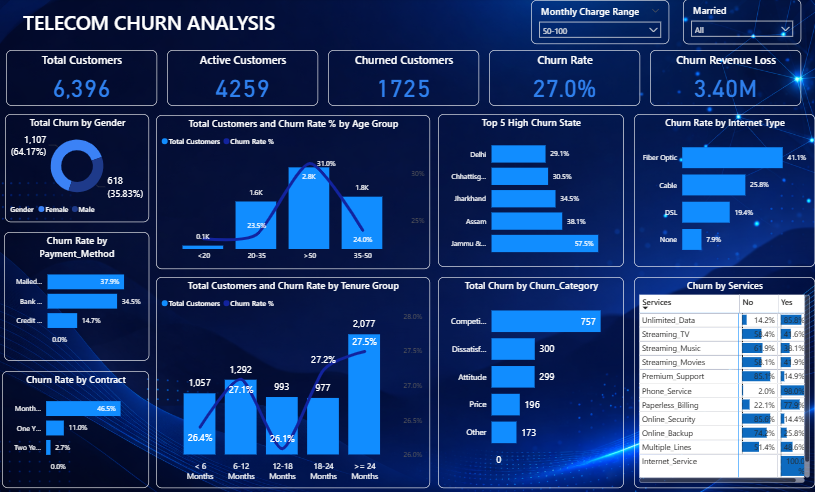

What the dashboard file says about the page in this screenshot:
{"tool":"powerbi","page":{"name":"Churn","canvas":[1400,850],"ordinal":0},"visuals":[{"type":"card","title":"Total Customers","fields":{"Values":["tbl_dummy.Total Customers"]},"box":[13.6,88.4,256.7,95.2],"z":0},{"type":"clusteredBarChart","title":"Churn Rate by Payment_Method","fields":{"Category":["PROD_churn.Payment_Method"],"Y":["tbl_dummy.Churn Rate %"]},"box":[10.2,397.8,246.5,219.3],"z":1000},{"type":"barChart","title":"Churn Rate by Contract","fields":{"Category":["PROD_churn.Contract"],"Y":["tbl_dummy.Churn Rate %"]},"box":[6.8,634.1,249.9,198.9],"z":2000},{"type":"lineClusteredColumnComboChart","title":"Total Customers and Churn Rate by Tenure Group","fields":{"Category":["Mapping_tenureGRp.Tenure Group"],"Y":["tbl_dummy.Total Customers"],"Y2":["tbl_dummy.Churn Rate %"]},"box":[268.6,474.3,465.8,358.7],"z":3000},{"type":"clusteredBarChart","title":"Top 5 High Churn State","fields":{"Category":["PROD_churn.State"],"Y":["tbl_dummy.Churn Rate %"]},"box":[748,198.9,316.2,258.4],"z":4000},{"type":"clusteredBarChart","fields":{"Category":["PROD_churn.Churn_Category"],"Y":["tbl_dummy.Total Churn"]},"box":[748,482.8,316.2,350.2],"z":5000},{"type":"clusteredBarChart","title":"Churn Rate by Internet Type","fields":{"Category":["PROD_churn.Internet_Type"],"Y":["tbl_dummy.Churn Rate %"]},"box":[1081.2,195.5,307.7,261.8],"z":6000},{"type":"pivotTable","title":"Churn by Services","fields":{"Rows":["Prod_services.Services"],"Columns":["Prod_services.Status"],"Values":["Sum(Prod_services.Churn Status)"]},"box":[1081.2,474.3,307.7,358.7],"z":7000},{"type":"slicer","fields":{"Values":["Prod_services.Monthly Charge Status"]},"box":[906.1,3.4,234.6,74.8],"z":8000},{"type":"slicer","fields":{"Values":["PROD_churn.Married"]},"box":[1164.5,1.7,200.6,76.5],"z":9000},{"type":"textbox","title":"TELECOM CHURN ANALYSIS","box":[44.2,17,452.2,44.2],"z":10000},{"type":"donutChart","fields":{"Category":["PROD_churn.Gender"],"Y":["tbl_dummy.Total Churn"]},"box":[11.9,197.2,244.8,183.6],"z":11000},{"type":"card","title":"Active Customers","fields":{"Values":["tbl_dummy.Active Customers"]},"box":[287.3,88.4,256.7,95.2],"z":12000},{"type":"card","title":"Churned Customers","fields":{"Values":["tbl_dummy.Churned Customers"]},"box":[561,88.4,256.7,95.2],"z":13000},{"type":"card","title":"Churn Rate","fields":{"Values":["tbl_dummy.Churn Rate %"]},"box":[834.7,88.4,256.7,95.2],"z":14000},{"type":"card","title":"Churn Revenue Loss","fields":{"Values":["tbl_dummy.Churn Revenue Loss"]},"box":[1108.4,88.4,256.7,95.2],"z":15000},{"type":"lineStackedColumnComboChart","fields":{"Category":["Mapping_AgeGrp.Age Group"],"Y":["tbl_dummy.Total Customers"],"Y2":["tbl_dummy.Churn Rate %"]},"box":[268.6,198.9,465.8,261.8],"z":15001}]}

Visuals, with their boxes in screenshot pixels (x1, y1, x2, y2), scaled from the page's 1400x850 canvas onto the 815x492 screenshot:
"Total Customers" card: <region>8, 51, 157, 106</region>
"Churn Rate by Payment_Method" clusteredBarChart: <region>6, 230, 149, 357</region>
"Churn Rate by Contract" barChart: <region>4, 367, 149, 482</region>
"Total Customers and Churn Rate by Tenure Group" lineClusteredColumnComboChart: <region>156, 275, 428, 482</region>
"Top 5 High Churn State" clusteredBarChart: <region>435, 115, 620, 265</region>
clusteredBarChart - PROD_churn.Churn_Category x tbl_dummy.Total Churn: <region>435, 279, 620, 482</region>
"Churn Rate by Internet Type" clusteredBarChart: <region>629, 113, 809, 265</region>
"Churn by Services" pivotTable: <region>629, 275, 809, 482</region>
slicer - Prod_services.Monthly Charge Status: <region>527, 2, 664, 45</region>
slicer - PROD_churn.Married: <region>678, 1, 795, 45</region>
"TELECOM CHURN ANALYSIS" textbox: <region>26, 10, 289, 35</region>
donutChart - PROD_churn.Gender x tbl_dummy.Total Churn: <region>7, 114, 149, 220</region>
"Active Customers" card: <region>167, 51, 317, 106</region>
"Churned Customers" card: <region>327, 51, 476, 106</region>
"Churn Rate" card: <region>486, 51, 635, 106</region>
"Churn Revenue Loss" card: <region>645, 51, 795, 106</region>
lineStackedColumnComboChart - Mapping_AgeGrp.Age Group x tbl_dummy.Total Customers: <region>156, 115, 428, 267</region>
